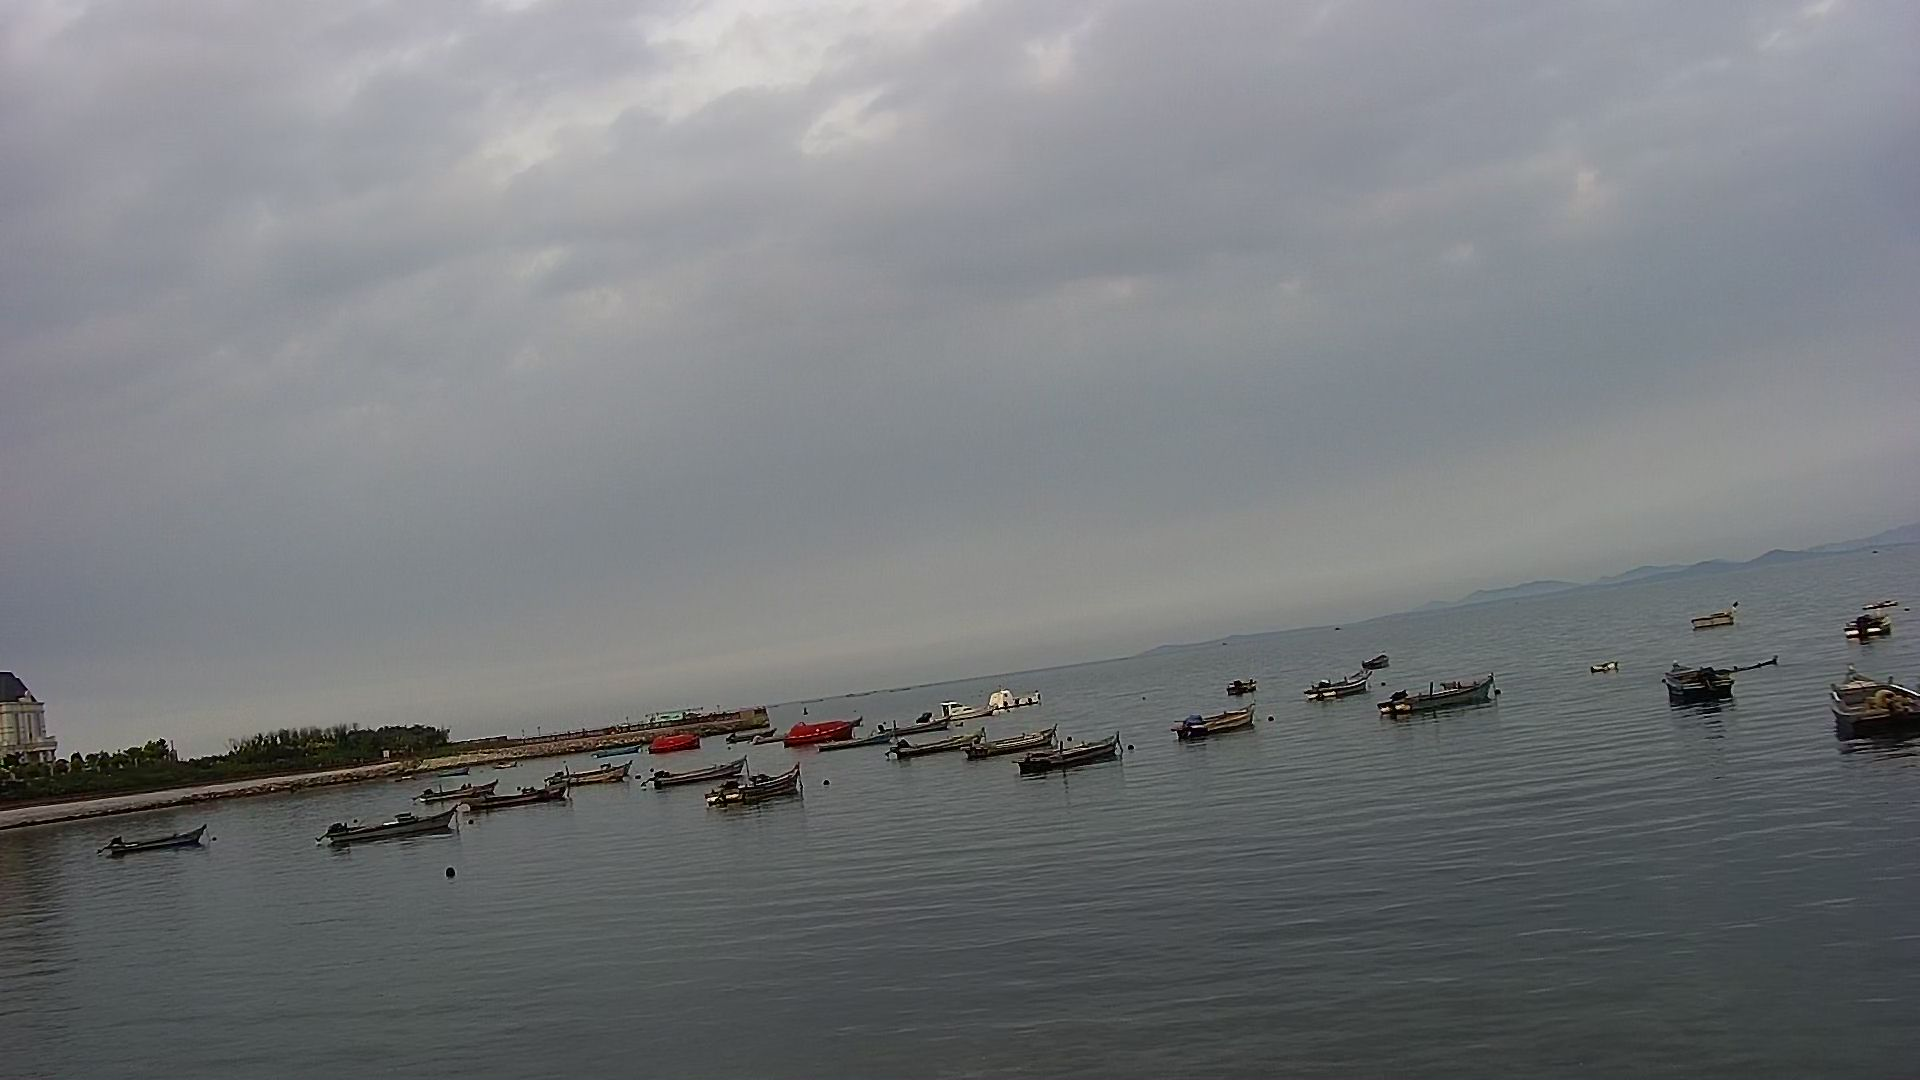boat: (1832, 654, 1917, 753), (1389, 675, 1507, 723), (1019, 741, 1131, 790), (467, 781, 568, 832), (541, 738, 628, 796), (102, 820, 215, 864), (315, 816, 473, 847), (715, 781, 820, 824), (1176, 705, 1267, 754), (1665, 657, 1734, 719), (963, 728, 1058, 767), (1677, 599, 1749, 642), (1305, 671, 1369, 713), (425, 785, 498, 815), (1837, 608, 1899, 644), (653, 771, 750, 793), (899, 742, 986, 764), (1229, 682, 1254, 702)
